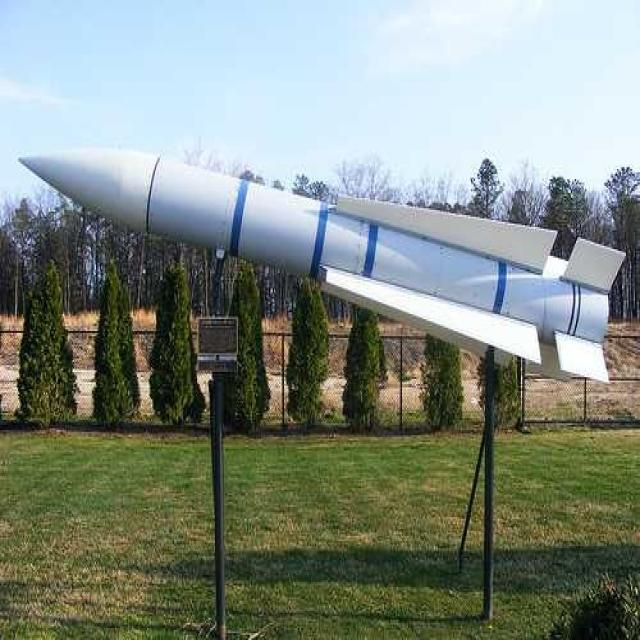missile: (18, 135, 622, 389)
